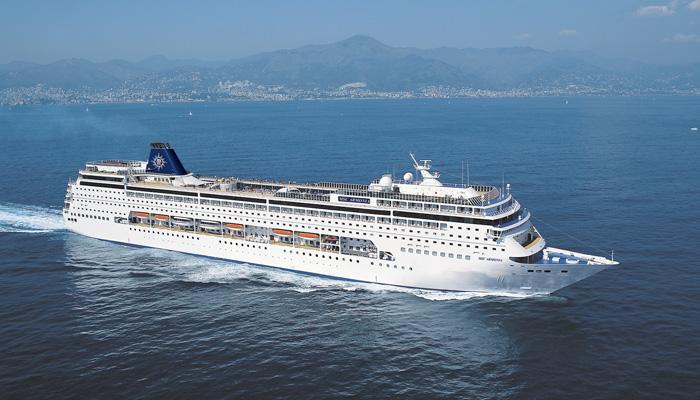youlun: (57, 136, 622, 299)
